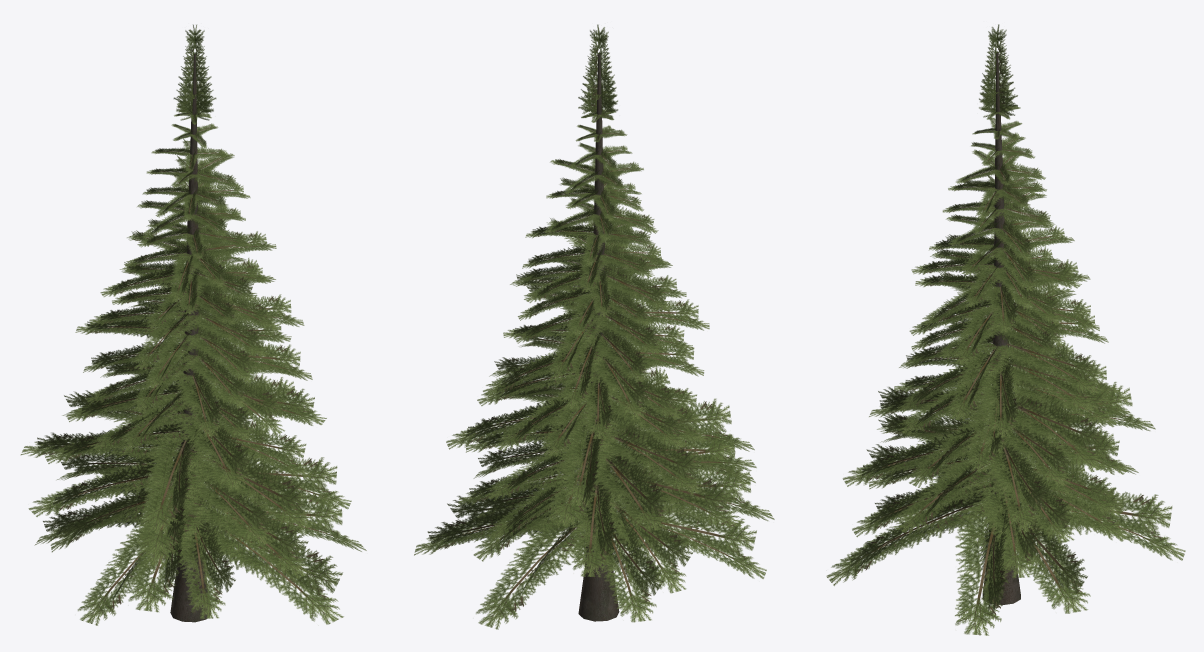
The model's file is fir_c.glb.
3 renders of one model, left to right at view 1: azimuth 30°, elevation 25°; view 2: azimuth 150°, elevation 25°; view 3: azimuth 270°, elevation 25°, orthographic. The views are drawn at different scales.
Visible parts, largest first — view 1: Foliage, Trunk, FoliageTip; view 2: Foliage, Trunk, FoliageTip; view 3: Foliage, Trunk, FoliageTip.
Part boxes in pixels (bbox=[...]): Foliage: bbox=[20, 92, 366, 625]; Trunk: bbox=[170, 54, 211, 622]; FoliageTip: bbox=[173, 24, 216, 120]; Foliage: bbox=[414, 91, 774, 629]; Trunk: bbox=[578, 53, 619, 621]; FoliageTip: bbox=[578, 24, 617, 118]; Foliage: bbox=[826, 88, 1185, 635]; Trunk: bbox=[982, 52, 1020, 605]; FoliageTip: bbox=[979, 24, 1017, 117].
Bounding box in the file's own units: 9.81 × 17.34 × 10.32.
Materials: 3 (3 with a texture image).
